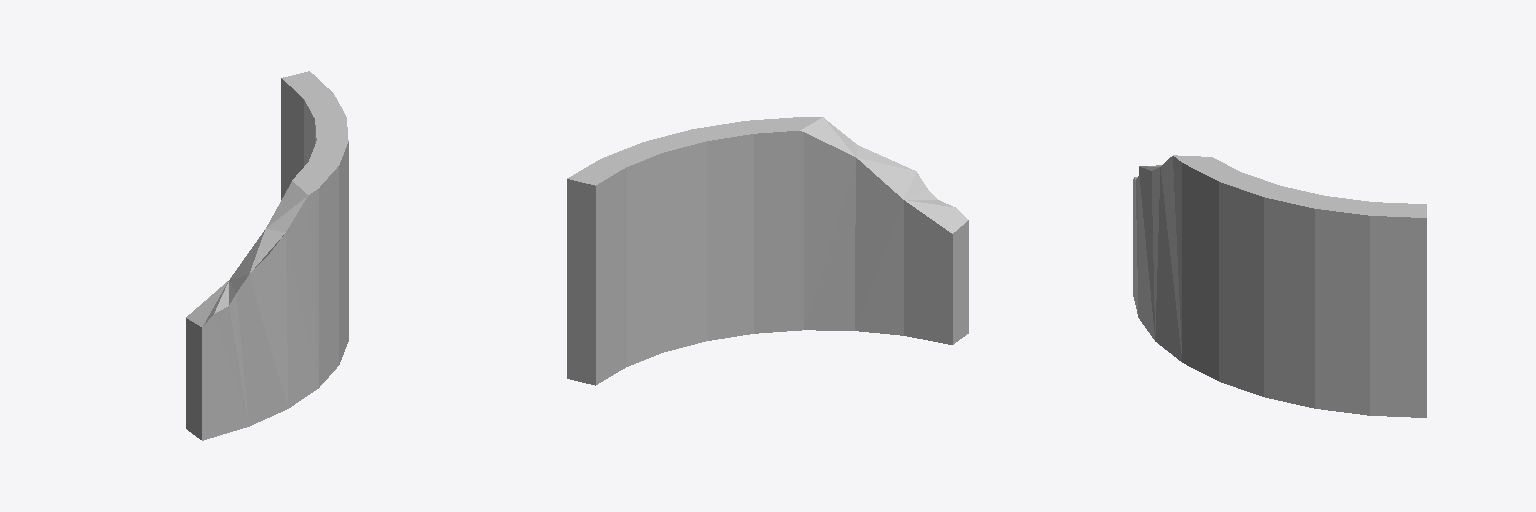
Rendered from BrokenTowerWall.obj.
The picture shows the model from 3 angles: view 1: azimuth 30°, elevation 25°; view 2: azimuth 150°, elevation 25°; view 3: azimuth 270°, elevation 25°; orthographic projection.
Visible parts, largest first — view 1: tower_destroyed; view 2: tower_destroyed; view 3: tower_destroyed.
Part boxes in pixels (x1,y1,x2,y2): tower_destroyed: (186, 71, 348, 440); tower_destroyed: (567, 117, 968, 385); tower_destroyed: (1133, 155, 1426, 417).
Size of the model in its own units: 8 by 6 by 8.